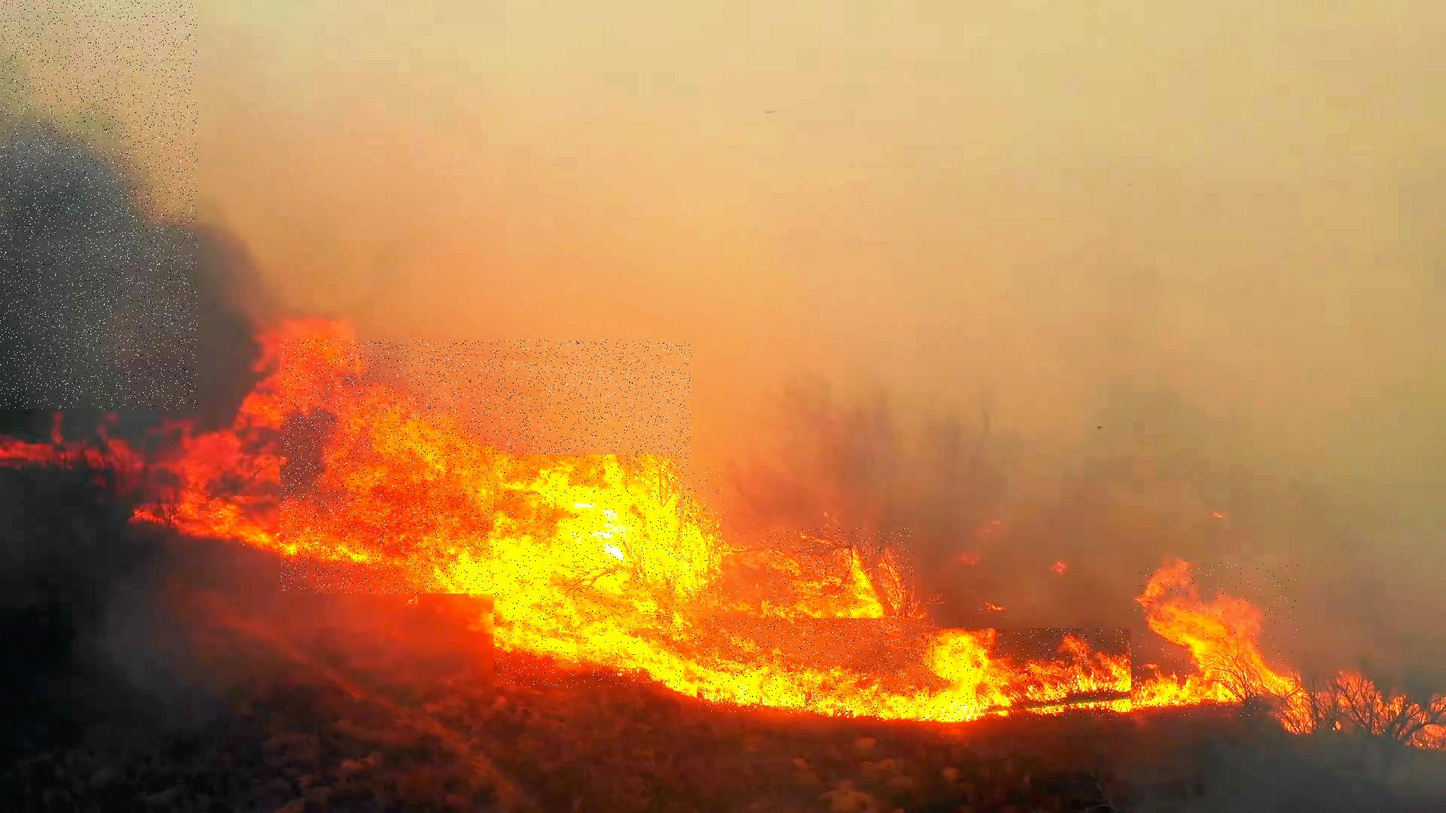fire: (280, 339, 692, 594), (494, 454, 684, 687), (558, 467, 722, 639), (1134, 562, 1301, 718), (697, 618, 936, 713), (908, 628, 1131, 720), (767, 528, 914, 630)
smoke: (0, 0, 198, 409)
